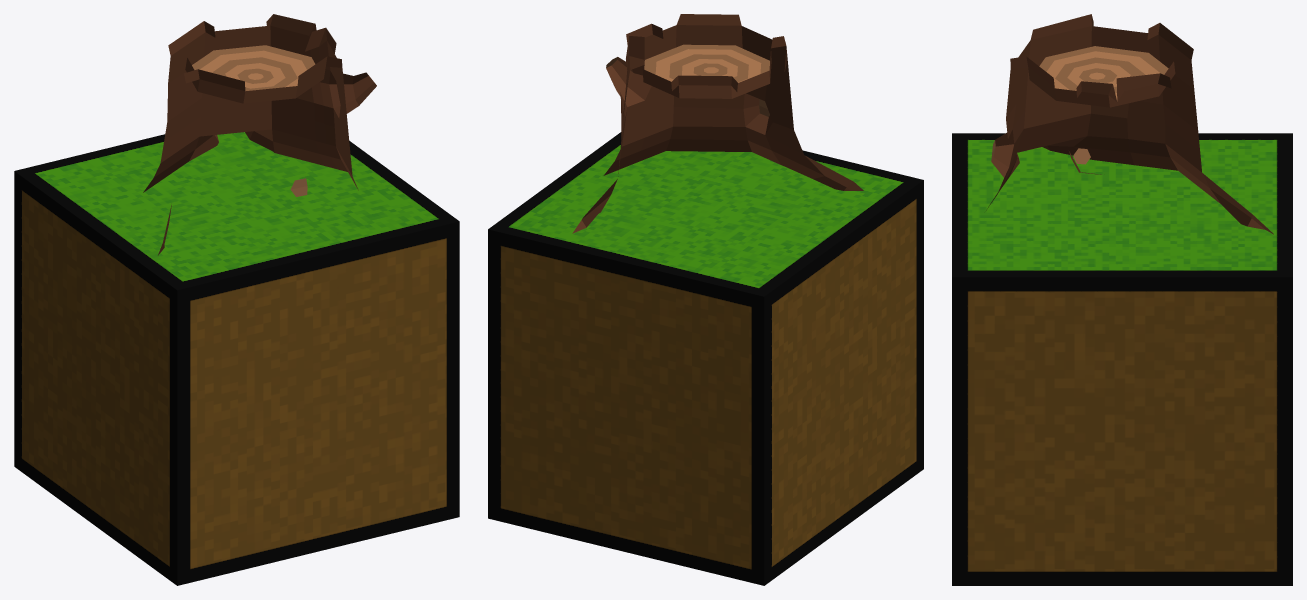
The model's file is TreeStump1.glb.
3 renders of one model, left to right at view 1: azimuth 30°, elevation 25°; view 2: azimuth 150°, elevation 25°; view 3: azimuth 270°, elevation 25°, orthographic. The views are drawn at different scales.
Parts seen in each view (by area): view 1: Grass_v2Baked, Tree stump 1; view 2: Grass_v2Baked, Tree stump 1; view 3: Grass_v2Baked, Tree stump 1.
Part boxes in pixels (box(x1,y1,x2,y2)): Grass_v2Baked: box(14, 132, 459, 585); Tree stump 1: box(143, 14, 376, 255); Grass_v2Baked: box(488, 132, 923, 585); Tree stump 1: box(572, 14, 863, 233); Grass_v2Baked: box(952, 133, 1292, 585); Tree stump 1: box(986, 14, 1273, 234).
Size of the model in its own units: 0.98 by 1.49 by 0.98.
Materials: 4 (1 with a texture image).
